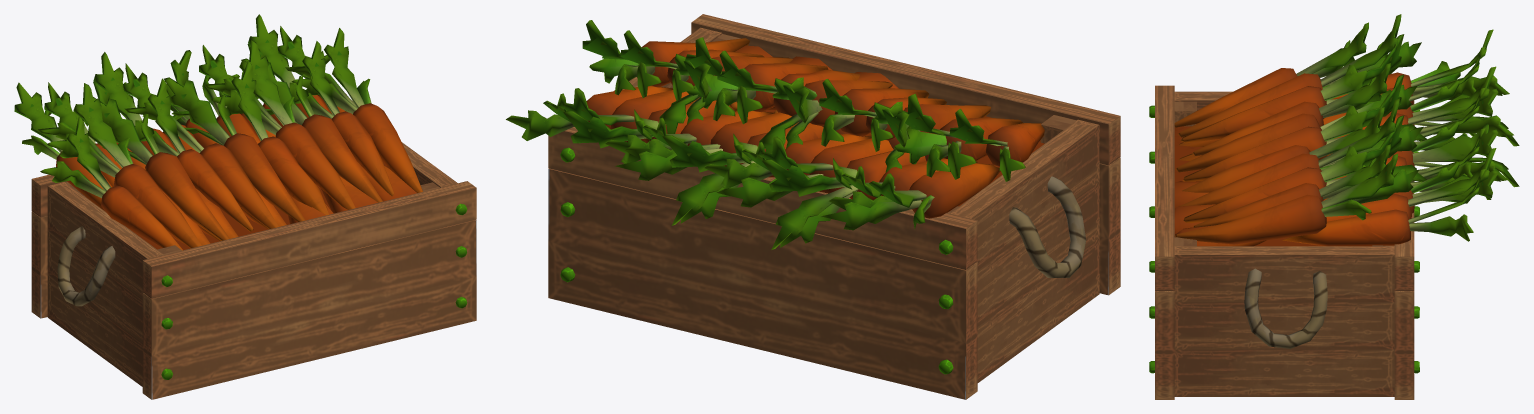
File: farmcrate-carrot.glb
The picture shows the model from 3 angles, left to right: view 1: azimuth 30°, elevation 25°; view 2: azimuth 150°, elevation 25°; view 3: azimuth 270°, elevation 25°; orthographic projection. The views are drawn at different scales.
Visible parts, largest first — view 1: FarmCrate_Carrot; view 2: FarmCrate_Carrot; view 3: FarmCrate_Carrot.
Part boxes in pixels (bbox=[...]): FarmCrate_Carrot: bbox=[14, 14, 476, 399]; FarmCrate_Carrot: bbox=[506, 14, 1120, 399]; FarmCrate_Carrot: bbox=[1149, 14, 1519, 399].
Bounding box in the file's own units: 0.7138 × 0.4113 × 0.567.
3 materials, 3 textured.
